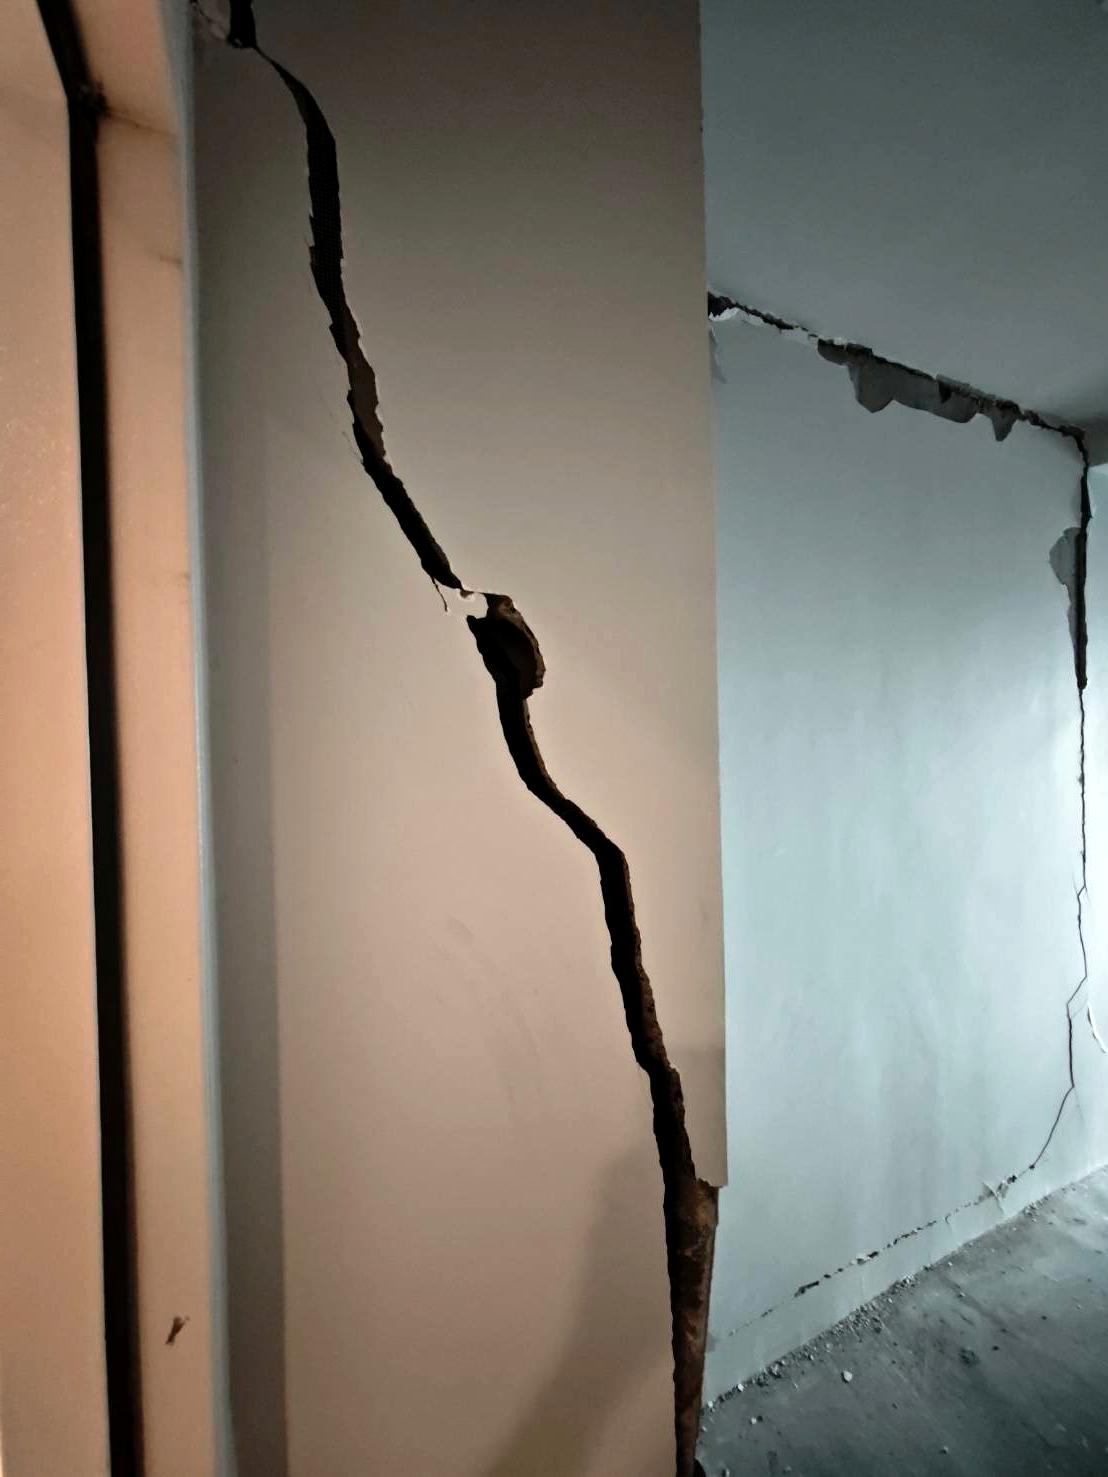High: (203, 5, 1108, 1463)
